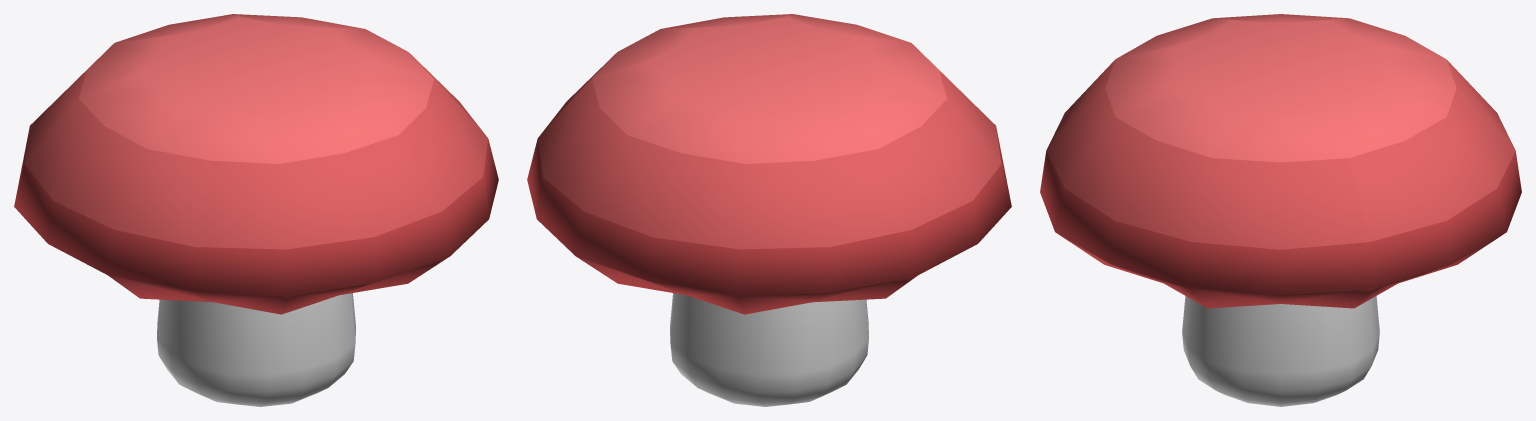
Rendered from Character_Plant8.fbx.
3 views of the same model, side by side, from view 1: azimuth 30°, elevation 25°; view 2: azimuth 150°, elevation 25°; view 3: azimuth 270°, elevation 25° (orthographic).
Parts seen in each view (by area): view 1: mushroom_2; view 2: mushroom_2; view 3: mushroom_2.
Part boxes in pixels (left/top/right/bottom): mushroom_2: left=14, top=14, right=498, bottom=406; mushroom_2: left=527, top=14, right=1011, bottom=406; mushroom_2: left=1040, top=14, right=1521, bottom=406.
Bounding box in the file's own units: 79.27 × 57.95 × 79.27.
1 material, 1 textured.
